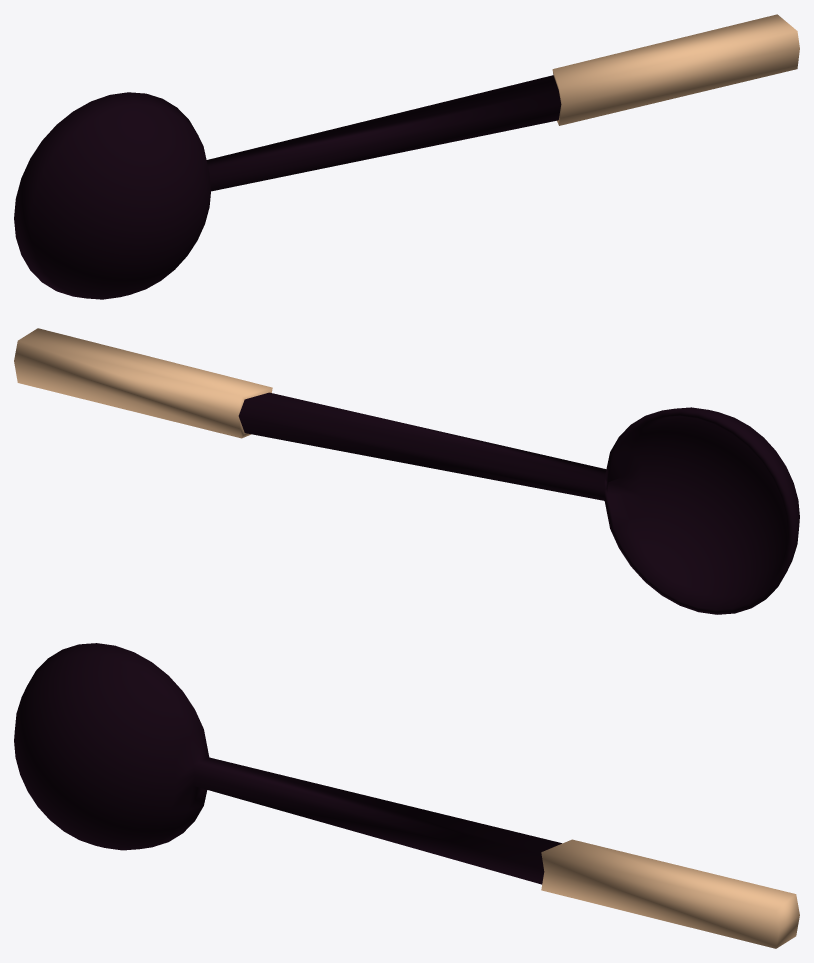
Rendered from trueladle.fbx.
3 renders of one model, top to bottom at view 1: azimuth 30°, elevation 25°; view 2: azimuth 150°, elevation 25°; view 3: azimuth 330°, elevation 25°, orthographic.
Visible parts, largest first — view 1: Sphere; view 2: Sphere; view 3: Sphere.
Part boxes in pixels (<box>): Sphere: <box>14,14,799,299</box>; Sphere: <box>14,328,799,614</box>; Sphere: <box>14,643,799,948</box>.
Size of the model in its own units: 548 by 136 by 64.3.
